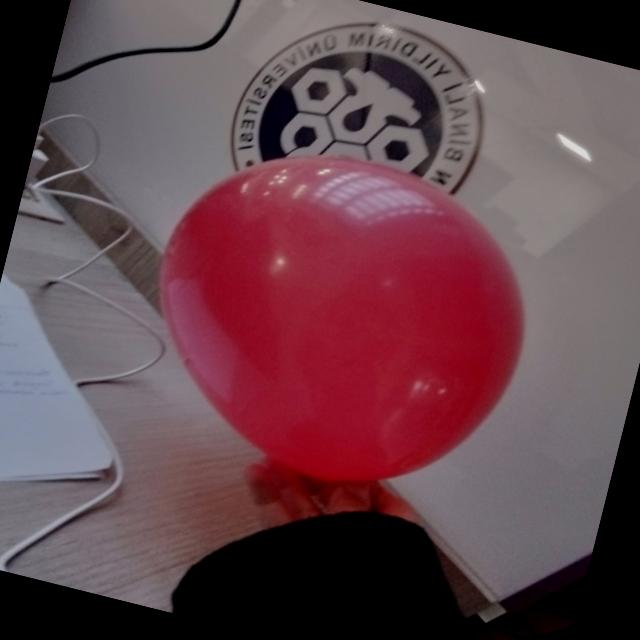balloon: (160, 157, 523, 480)
